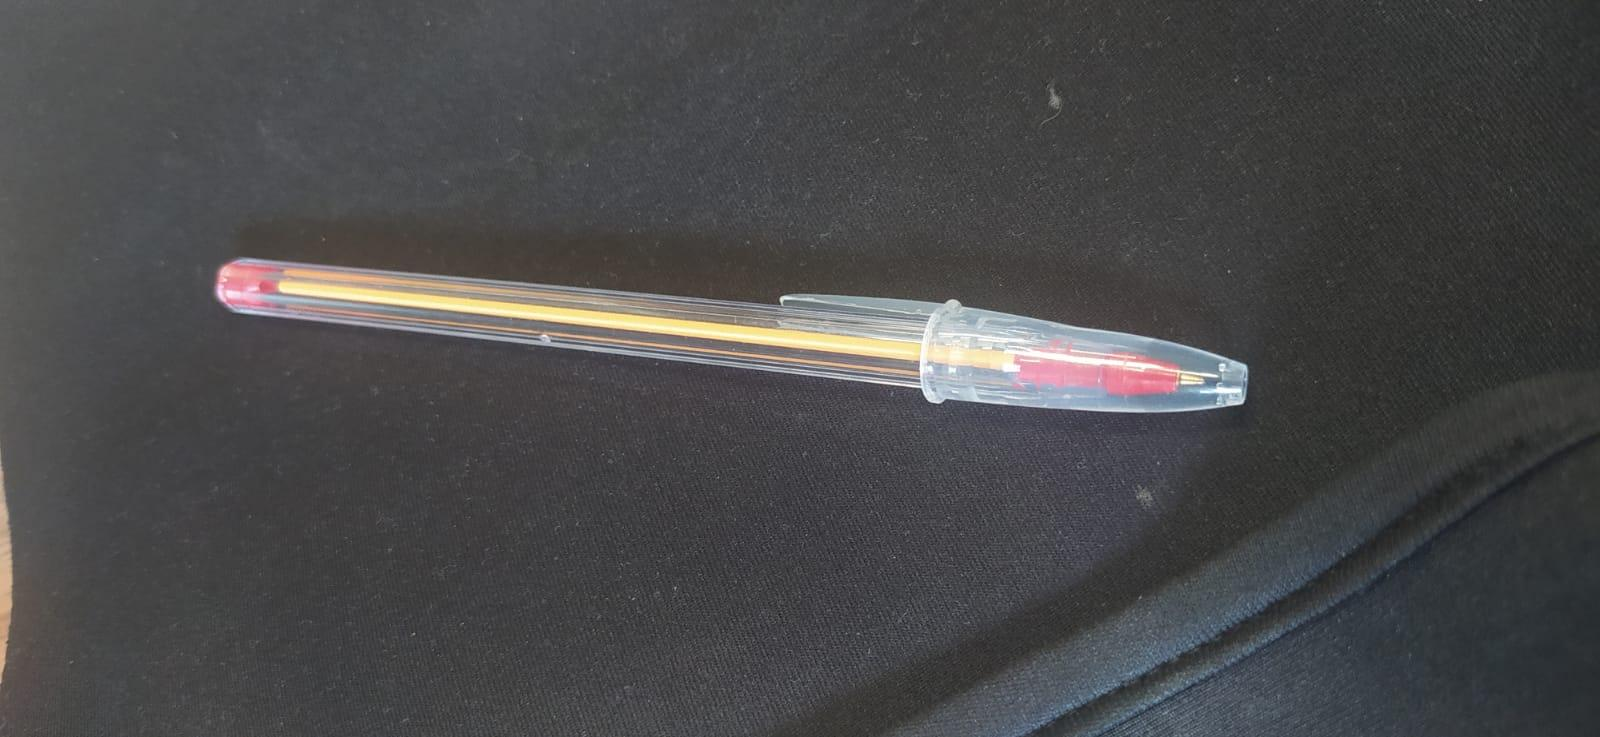pen: (214, 250, 1253, 420)
